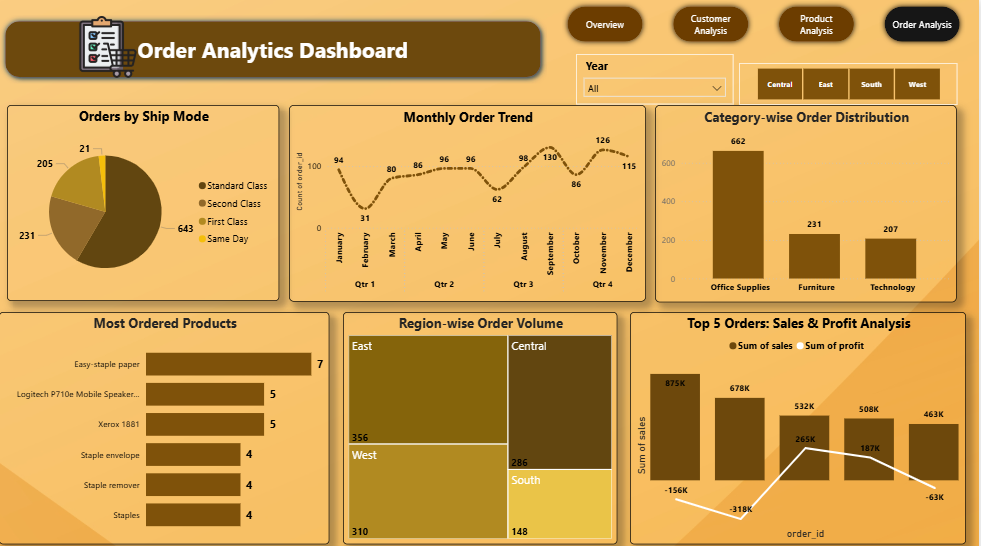

What the dashboard file says about the page in this screenshot:
{"tool":"powerbi","page":{"name":"Order Analysis","canvas":[1400,800],"ordinal":3},"visuals":[{"type":"pieChart","title":"Orders by Ship Mode","fields":{"Category":["superstore orders_clean.ship_mode"],"Y":["CountNonNull(superstore orders_clean.order_id)"]},"box":[11,149.6,389,280.3],"z":0},{"type":"lineChart","title":"Monthly Order Trend","fields":{"Category":["superstore orders_clean.order_date.Variation.Date Hierarchy.Quarter","superstore orders_clean.order_date.Variation.Date Hierarchy.Month"],"Y":["CountNonNull(superstore orders_clean.order_id)"]},"box":[414.3,150,510,281.4],"z":1000},{"type":"columnChart","title":"Category-wise Order Distribution","fields":{"Category":["superstore products_clean.category"],"Y":["CountNonNull(superstore orders_clean.order_id)"]},"box":[937,149.6,431.5,281.9],"z":2000},{"type":"barChart","title":"Most Ordered Products","fields":{"Category":["superstore products_clean.product_name"],"Y":["CountNonNull(superstore orders_clean.order_id)"]},"box":[0,445.7,472.4,332.3],"z":3000},{"type":"treemap","title":"Region-wise Order Volume","fields":{"Group":["superstore customers.region"],"Values":["CountNonNull(superstore orders_clean.order_id)"]},"box":[491.3,445.7,392.1,332.3],"z":4000},{"type":"shape","box":[0,22,782.7,97.6],"z":5000},{"type":"slicer","fields":{"Values":["superstore orders_clean.order_date.Variation.Date Hierarchy.Year"]},"box":[823.6,77.2,225.2,72.4],"z":6000},{"type":"slicer","fields":{"Values":["superstore customers.region"]},"box":[1056.7,89.8,311.8,59.8],"z":7000},{"type":"lineStackedColumnComboChart","title":"Top 5 Orders: Sales & Profit Analysis","fields":{"Category":["superstore orders_clean.order_id"],"Y":["Sum(superstore orders_clean.sales)"],"Y2":["Sum(superstore orders_clean.profit)"]},"box":[900.8,445.7,480.3,332.3],"z":8000},{"type":"image","box":[75.7,21.4,160,91.4],"z":9000},{"type":"pageNavigator","box":[804.7,1.6,576.4,66.1],"z":10000}]}

Visuals, with their boxes in screenshot pixels (x1, y1, x2, y2), scaled from the page's 1400x800 canvas onto the 981x546 screenshot:
"Orders by Ship Mode" pieChart: [left=8, top=102, right=280, bottom=293]
"Monthly Order Trend" lineChart: [left=290, top=102, right=648, bottom=294]
"Category-wise Order Distribution" columnChart: [left=657, top=102, right=959, bottom=294]
"Most Ordered Products" barChart: [left=0, top=304, right=331, bottom=531]
"Region-wise Order Volume" treemap: [left=344, top=304, right=619, bottom=531]
shape: [left=0, top=15, right=548, bottom=82]
slicer - superstore orders_clean.order_date.Variation.Date Hierarchy.Year: [left=577, top=53, right=735, bottom=102]
slicer - superstore customers.region: [left=740, top=61, right=959, bottom=102]
"Top 5 Orders: Sales & Profit Analysis" lineStackedColumnComboChart: [left=631, top=304, right=968, bottom=531]
image: [left=53, top=15, right=165, bottom=77]
pageNavigator: [left=564, top=1, right=968, bottom=46]
